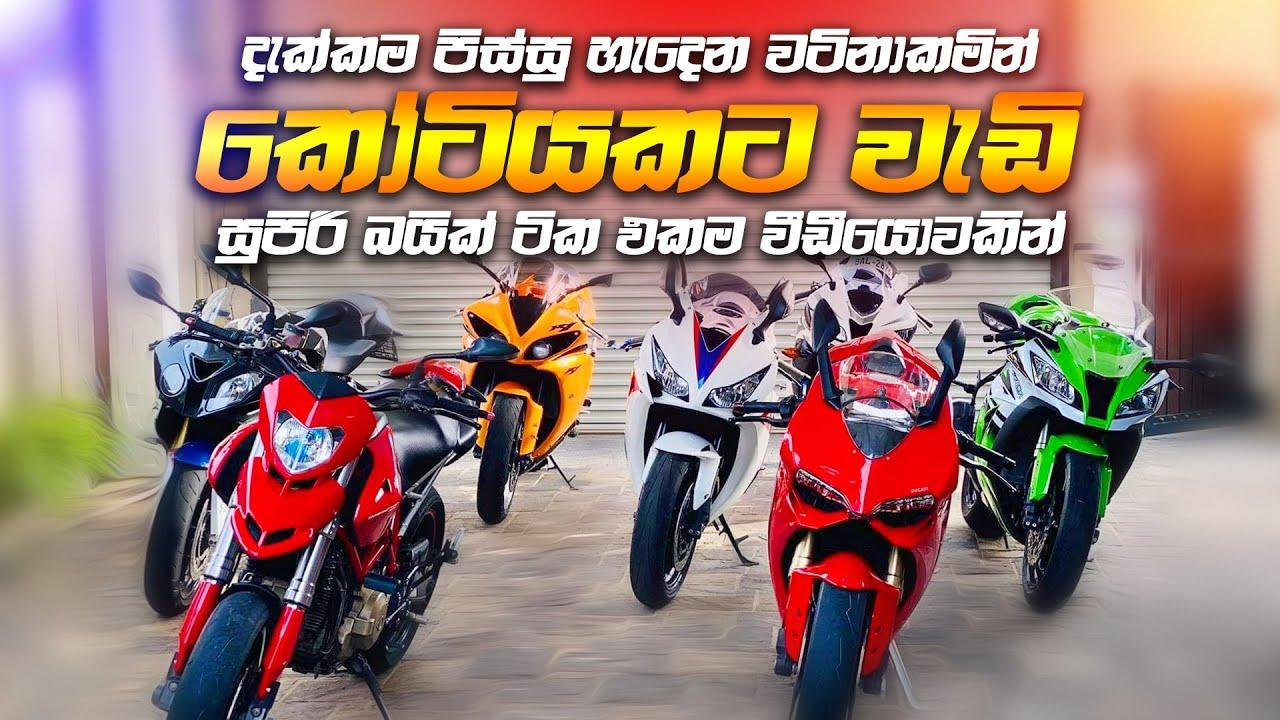motorbike: (152, 243, 522, 720), (957, 281, 1228, 613), (767, 299, 960, 720), (618, 236, 798, 610), (127, 265, 294, 617), (453, 247, 614, 527)
